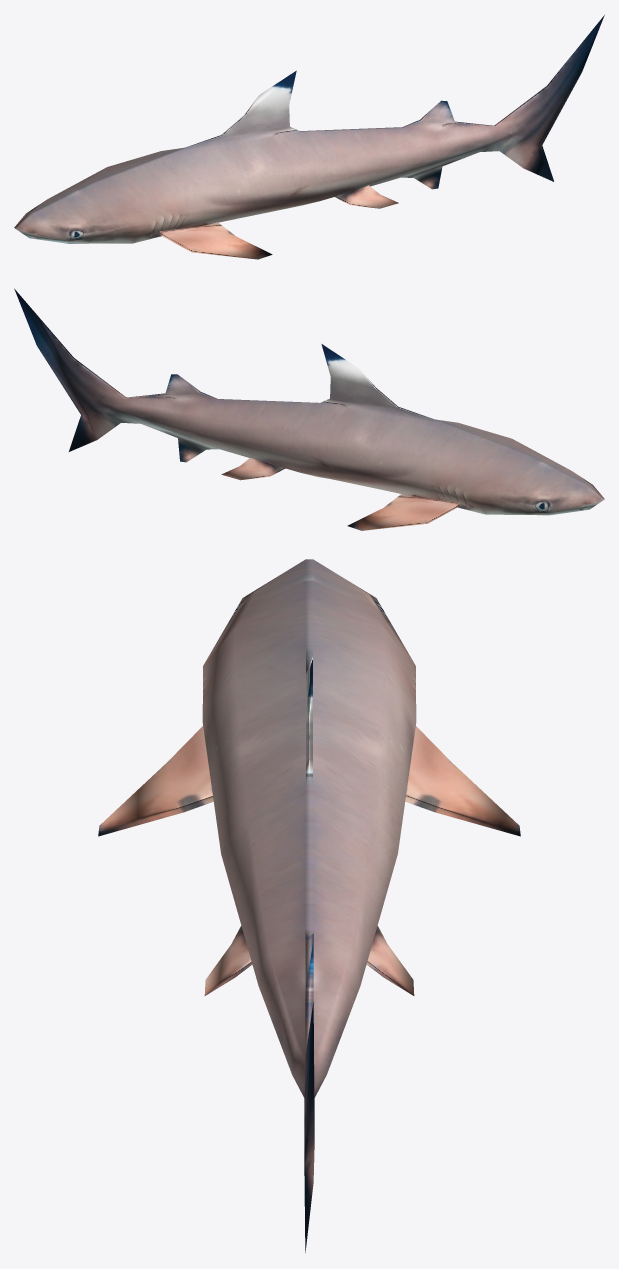
Rendered from shark_fbx.fbx.
3 renders of one model, top to bottom at view 1: azimuth 30°, elevation 25°; view 2: azimuth 150°, elevation 25°; view 3: azimuth 270°, elevation 25°, orthographic. The views are drawn at different scales.
Visible parts, largest first — view 1: pCube2, pCube5, pCube7; view 2: pCube2, pCube6, pCube8; view 3: pCube2, pCube6, pCube5, pCube8, pCube7.
Part boxes in pixels (x1=…): pCube2: x1=14, y1=15, x2=604, y2=243; pCube5: x1=159, y1=222, x2=272, y2=259; pCube7: x1=335, y1=185, x2=398, y2=208; pCube2: x1=14, y1=288, x2=604, y2=515; pCube6: x1=347, y1=493, x2=459, y2=530; pCube8: x1=221, y1=457, x2=285, y2=480; pCube2: x1=202, y1=559, x2=416, y2=1252; pCube6: x1=405, y1=726, x2=520, y2=836; pCube5: x1=98, y1=726, x2=213, y2=836; pCube8: x1=366, y1=926, x2=414, y2=995; pCube7: x1=204, y1=926, x2=252, y2=995.
Size of the model in its own units: 36.7 by 10.26 by 11.41.
